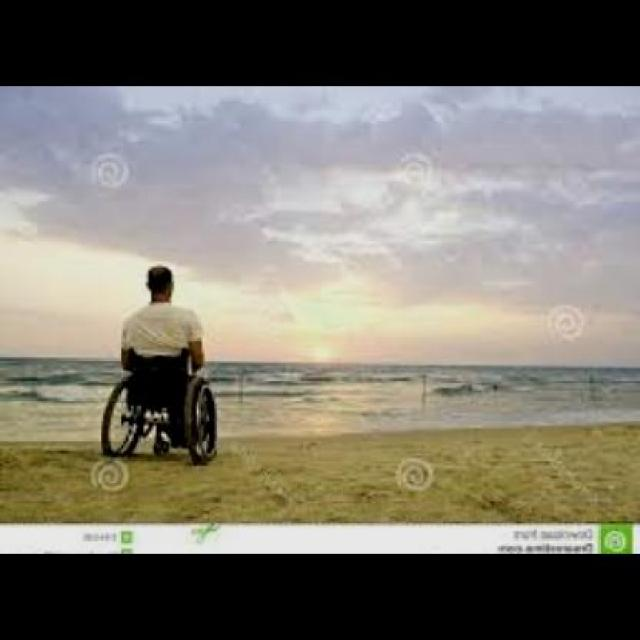wheelchairs: (90, 333, 226, 470)
